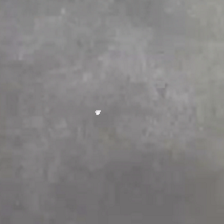Target: (93, 109, 102, 116)
